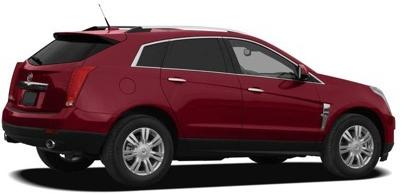back_view: (1, 61, 108, 155)
backlight: (67, 64, 98, 111)
side_glass: (126, 33, 311, 86)
